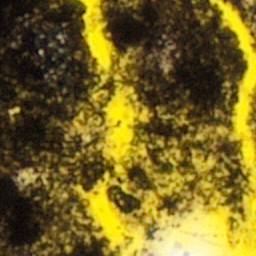cement_matrix: (103, 0, 245, 208), (0, 0, 115, 255), (110, 161, 155, 214), (226, 0, 255, 44), (160, 194, 183, 211), (164, 146, 180, 162), (19, 170, 36, 183), (253, 95, 255, 135), (220, 169, 222, 171)
cracks: (72, 0, 255, 255), (109, 160, 156, 215), (159, 193, 184, 212)
gravel_crushed_stones: (149, 228, 218, 255), (165, 147, 179, 161), (20, 171, 35, 182)
